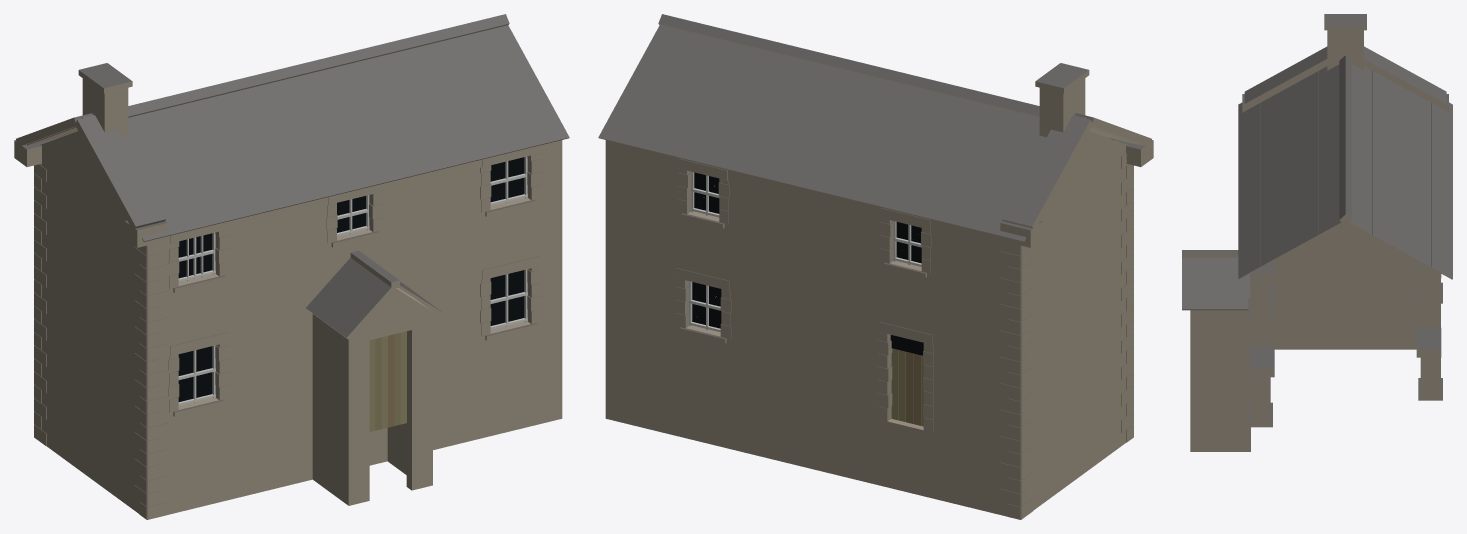
File: context.dales.house_17.glb
The picture shows the model from 3 angles, left to right: view 1: azimuth 30°, elevation 25°; view 2: azimuth 150°, elevation 25°; view 3: azimuth 270°, elevation 25°; orthographic projection. The views are drawn at different scales.
Parts seen in each view (by area): view 1: main__stone_a98, main__slate_666, main__glass_dark, main__paint_ccc, main__paint_886, main__paint_876, main__paint_875; view 2: main__stone_a98, main__slate_666, main__glass_dark, main__paint_ccc, main__paint_886, main__paint_875; view 3: main__slate_666, main__stone_a98.
Boxes of the visible parts, x1,y1,x2,y2 form: main__stone_a98: (14, 24, 569, 519); main__slate_666: (14, 14, 569, 507); main__glass_dark: (178, 157, 524, 401); main__paint_ccc: (178, 156, 527, 405); main__paint_886: (369, 331, 406, 431); main__paint_876: (375, 333, 400, 430); main__paint_875: (388, 334, 394, 427); main__stone_a98: (598, 24, 1153, 519); main__slate_666: (598, 14, 1153, 507); main__glass_dark: (692, 172, 923, 355); main__paint_ccc: (688, 171, 921, 332); main__paint_886: (891, 250, 923, 426); main__paint_875: (906, 351, 921, 425); main__slate_666: (1182, 14, 1452, 423); main__stone_a98: (1182, 25, 1452, 451).
Size of the model in its own units: 10.23 by 9.08 by 6.63.
